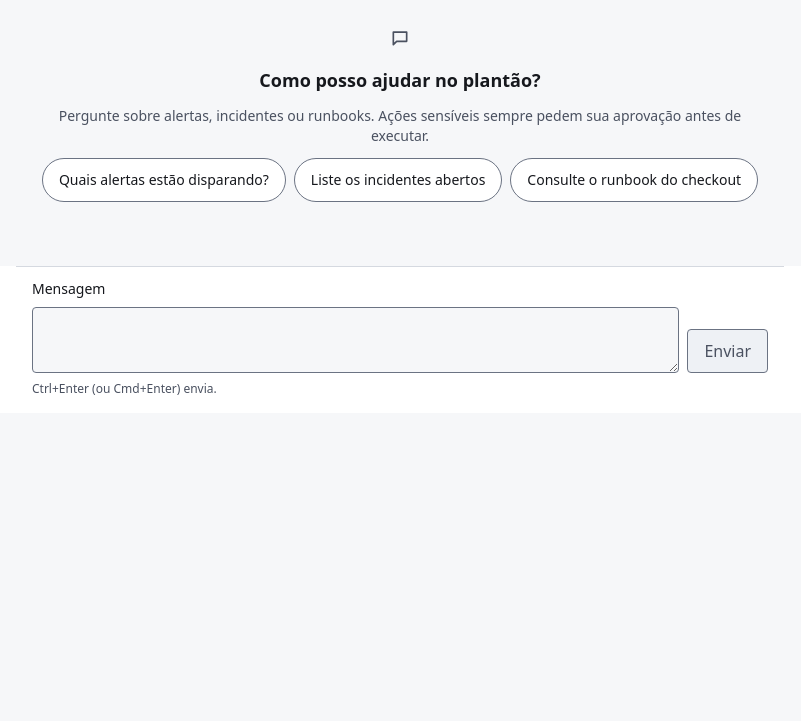
Test: ApprovalCard › shows the action, params without reason, the reason and both buttons
The image size is (801, 721).
Type "resolva o inc-1" into the text box labelled "Mensagem". click: {"x": 356, "y": 340}
box: x1=32 y1=307 x2=679 y2=373
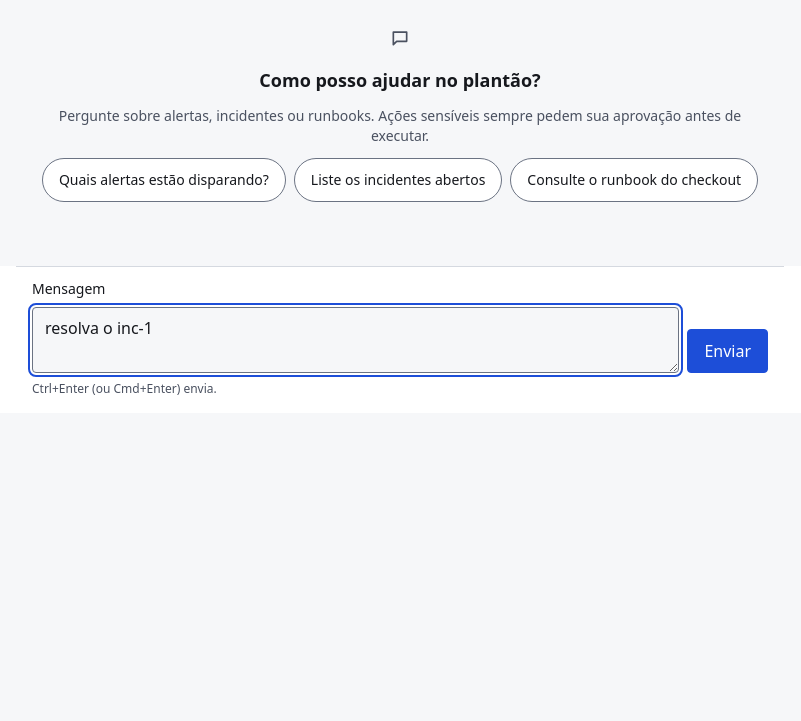
Click the button "Enviar". click: {"x": 728, "y": 351}
box: x1=687 y1=329 x2=768 y2=373
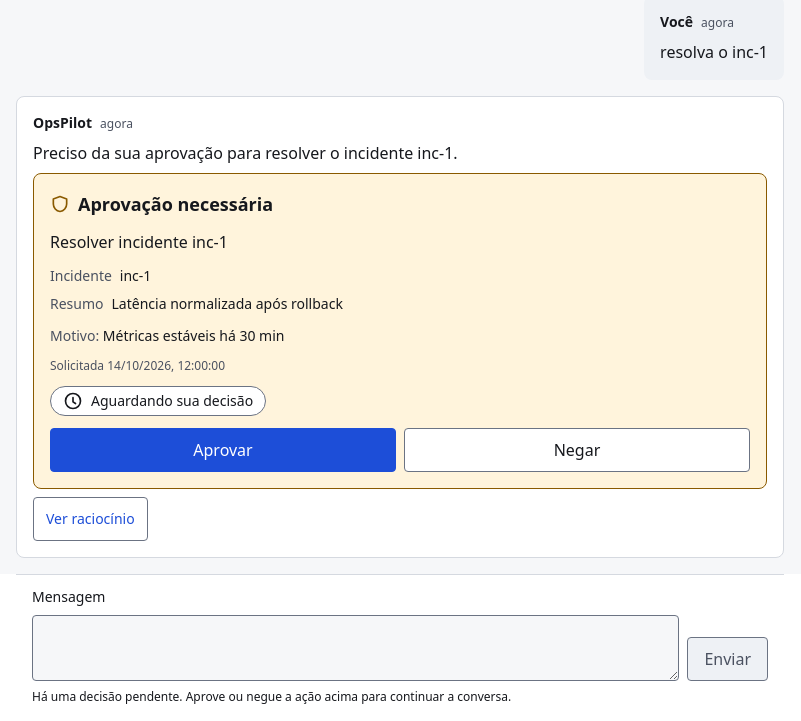
Expected: the text "Resolver incidente inc-1" is shown, x1=50 y1=231 x2=228 y2=253
Expected: the element showing "Incidente inc-1 Resumo Latência normalizada após rollback" is shown, x1=50 y1=266 x2=343 y2=313
Expected: the text "Métricas estáveis há 30 min" is shown, x1=103 y1=326 x2=284 y2=345
